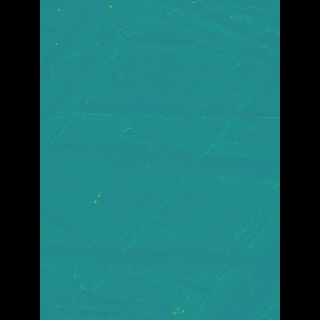Loch: (77, 32, 228, 294)
